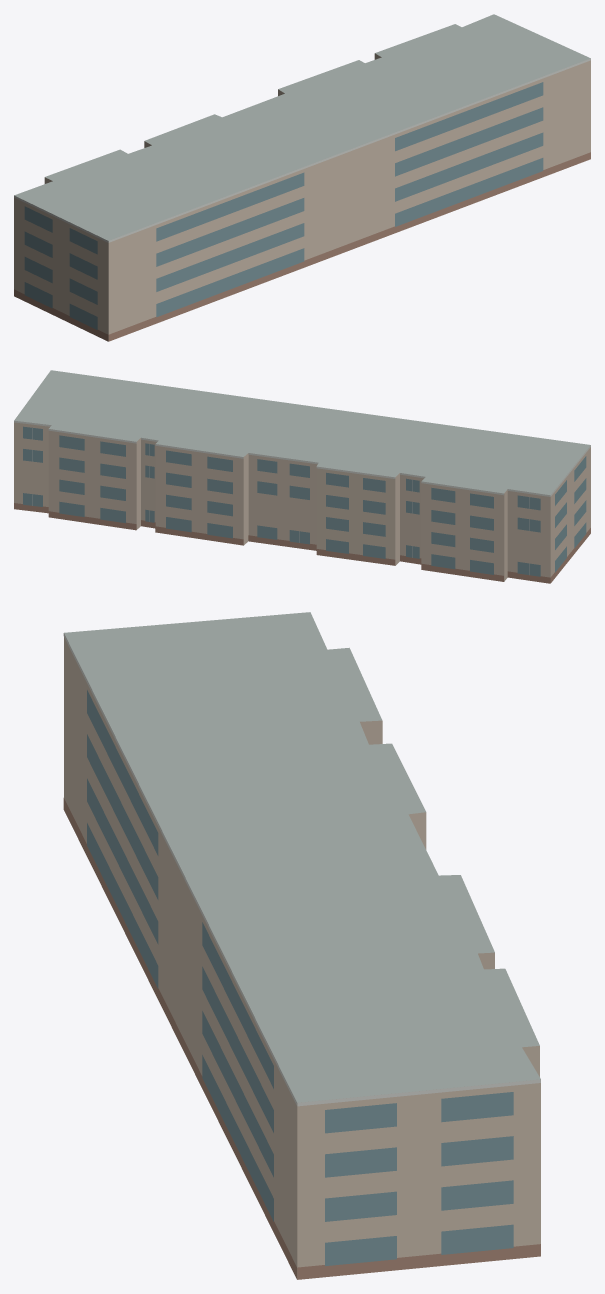
File: survey-upis-33001112.glb
3 renders of one model, top to bottom at view 1: azimuth 30°, elevation 25°; view 2: azimuth 150°, elevation 25°; view 3: azimuth 270°, elevation 25°, orthographic. The views are drawn at different scales.
Visible parts, largest first — view 1: survey-upis-33001112.tmp; view 2: survey-upis-33001112.tmp; view 3: survey-upis-33001112.tmp.
Boxes of the visible parts, <box> form: survey-upis-33001112.tmp: <box>14,14,590,341</box>; survey-upis-33001112.tmp: <box>14,370,590,583</box>; survey-upis-33001112.tmp: <box>63,612,540,1279</box>.
Bounding box in the file's own units: 72.56 × 12.2 × 29.83.
